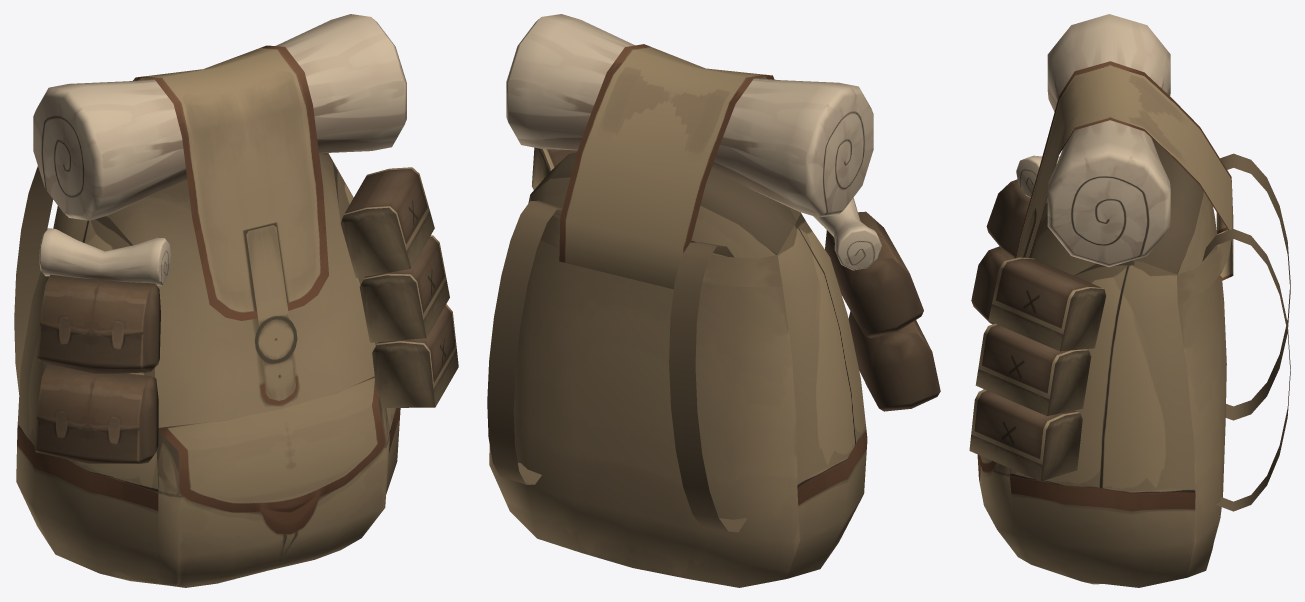
File: bag.fbx
3 renders of one model, left to right at view 1: azimuth 30°, elevation 25°; view 2: azimuth 150°, elevation 25°; view 3: azimuth 270°, elevation 25°, orthographic. The views are drawn at different scales.
Visible parts, largest first — view 1: team_player_1013_2:pCube8, team_player_1013_2:pCylinder2, team_player_1013_2:pCylinder1, pCube11, pCube17, pCube14, pCube19, pCube20, pCube18, pCylinder1, team_player_1013_2:pCylinder3; view 2: team_player_1013_2:pCube8, team_player_1013_2:pCylinder2, team_player_1013_2:pCylinder1, team_player_1013_2:pCylinder3, pCube11, pCube17, team_player_1013_2:pCylinder4, pCylinder1, pCube14; view 3: team_player_1013_2:pCube8, team_player_1013_2:pCylinder1, team_player_1013_2:pCylinder2, pCube14, pCube19, pCube20, team_player_1013_2:pCylinder3, pCube11, team_player_1013_2:pCylinder4, pCube17, pCylinder1.
Part boxes in pixels (left/top/right/bottom): team_player_1013_2:pCube8: left=16, top=153, right=400, bottom=587; team_player_1013_2:pCylinder2: left=133, top=45, right=328, bottom=320; team_player_1013_2:pCylinder1: left=33, top=14, right=406, bottom=220; pCube11: left=37, top=274, right=160, bottom=373; pCube17: left=34, top=364, right=158, bottom=463; pCube14: left=340, top=167, right=434, bottom=277; pCube19: left=359, top=235, right=449, bottom=342; pCube20: left=372, top=304, right=458, bottom=407; pCube18: left=246, top=225, right=297, bottom=400; pCylinder1: left=39, top=228, right=170, bottom=285; team_player_1013_2:pCylinder3: left=14, top=166, right=53, bottom=394; team_player_1013_2:pCube8: left=489, top=152, right=867, bottom=587; team_player_1013_2:pCylinder2: left=559, top=44, right=774, bottom=289; team_player_1013_2:pCylinder1: left=506, top=14, right=873, bottom=217; team_player_1013_2:pCylinder3: left=487, top=200, right=747, bottom=532; pCube11: left=825, top=211, right=923, bottom=338; pCube17: left=848, top=311, right=940, bottom=411; team_player_1013_2:pCylinder4: left=528, top=195, right=782, bottom=286; pCylinder1: left=813, top=197, right=881, bottom=270; pCube14: left=532, top=147, right=577, bottom=190; team_player_1013_2:pCube8: left=977, top=139, right=1226, bottom=587; team_player_1013_2:pCylinder1: left=1047, top=14, right=1170, bottom=267; team_player_1013_2:pCylinder2: left=1014, top=61, right=1233, bottom=280; pCube14: left=988, top=257, right=1105, bottom=351; pCube19: left=975, top=323, right=1091, bottom=415; pCube20: left=969, top=389, right=1082, bottom=481; team_player_1013_2:pCylinder3: left=1202, top=153, right=1290, bottom=511; pCube11: left=986, top=179, right=1047, bottom=257; team_player_1013_2:pCylinder4: left=1177, top=229, right=1231, bottom=305; pCube17: left=971, top=246, right=1014, bottom=324; pCylinder1: left=1016, top=155, right=1059, bottom=197.
Size of the model in its own units: 84.96 by 96.56 by 60.78.
